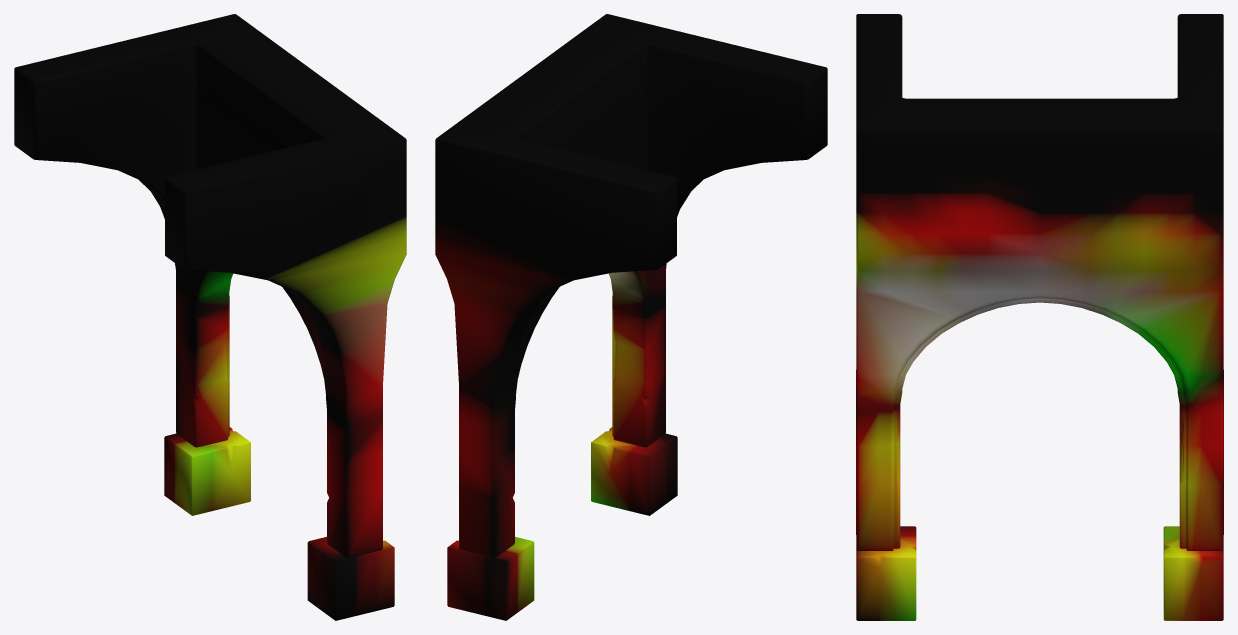
Rendered from SM_Column_Crypt_Var_01.fbx.
3 renders of one model, left to right at view 1: azimuth 30°, elevation 25°; view 2: azimuth 150°, elevation 25°; view 3: azimuth 270°, elevation 25°, orthographic. The views are drawn at different scales.
Parts seen in each view (by area): view 1: SM_Column_Crypt_Var_01_LOD0; view 2: SM_Column_Crypt_Var_01_LOD0; view 3: SM_Column_Crypt_Var_01_LOD0.
Boxes of the visible parts, x1,y1,x2,y2 form: SM_Column_Crypt_Var_01_LOD0: (14,14,406,620); SM_Column_Crypt_Var_01_LOD0: (435,14,827,620); SM_Column_Crypt_Var_01_LOD0: (856,14,1223,620).
Size of the model in its own units: 300 by 401 by 600.
